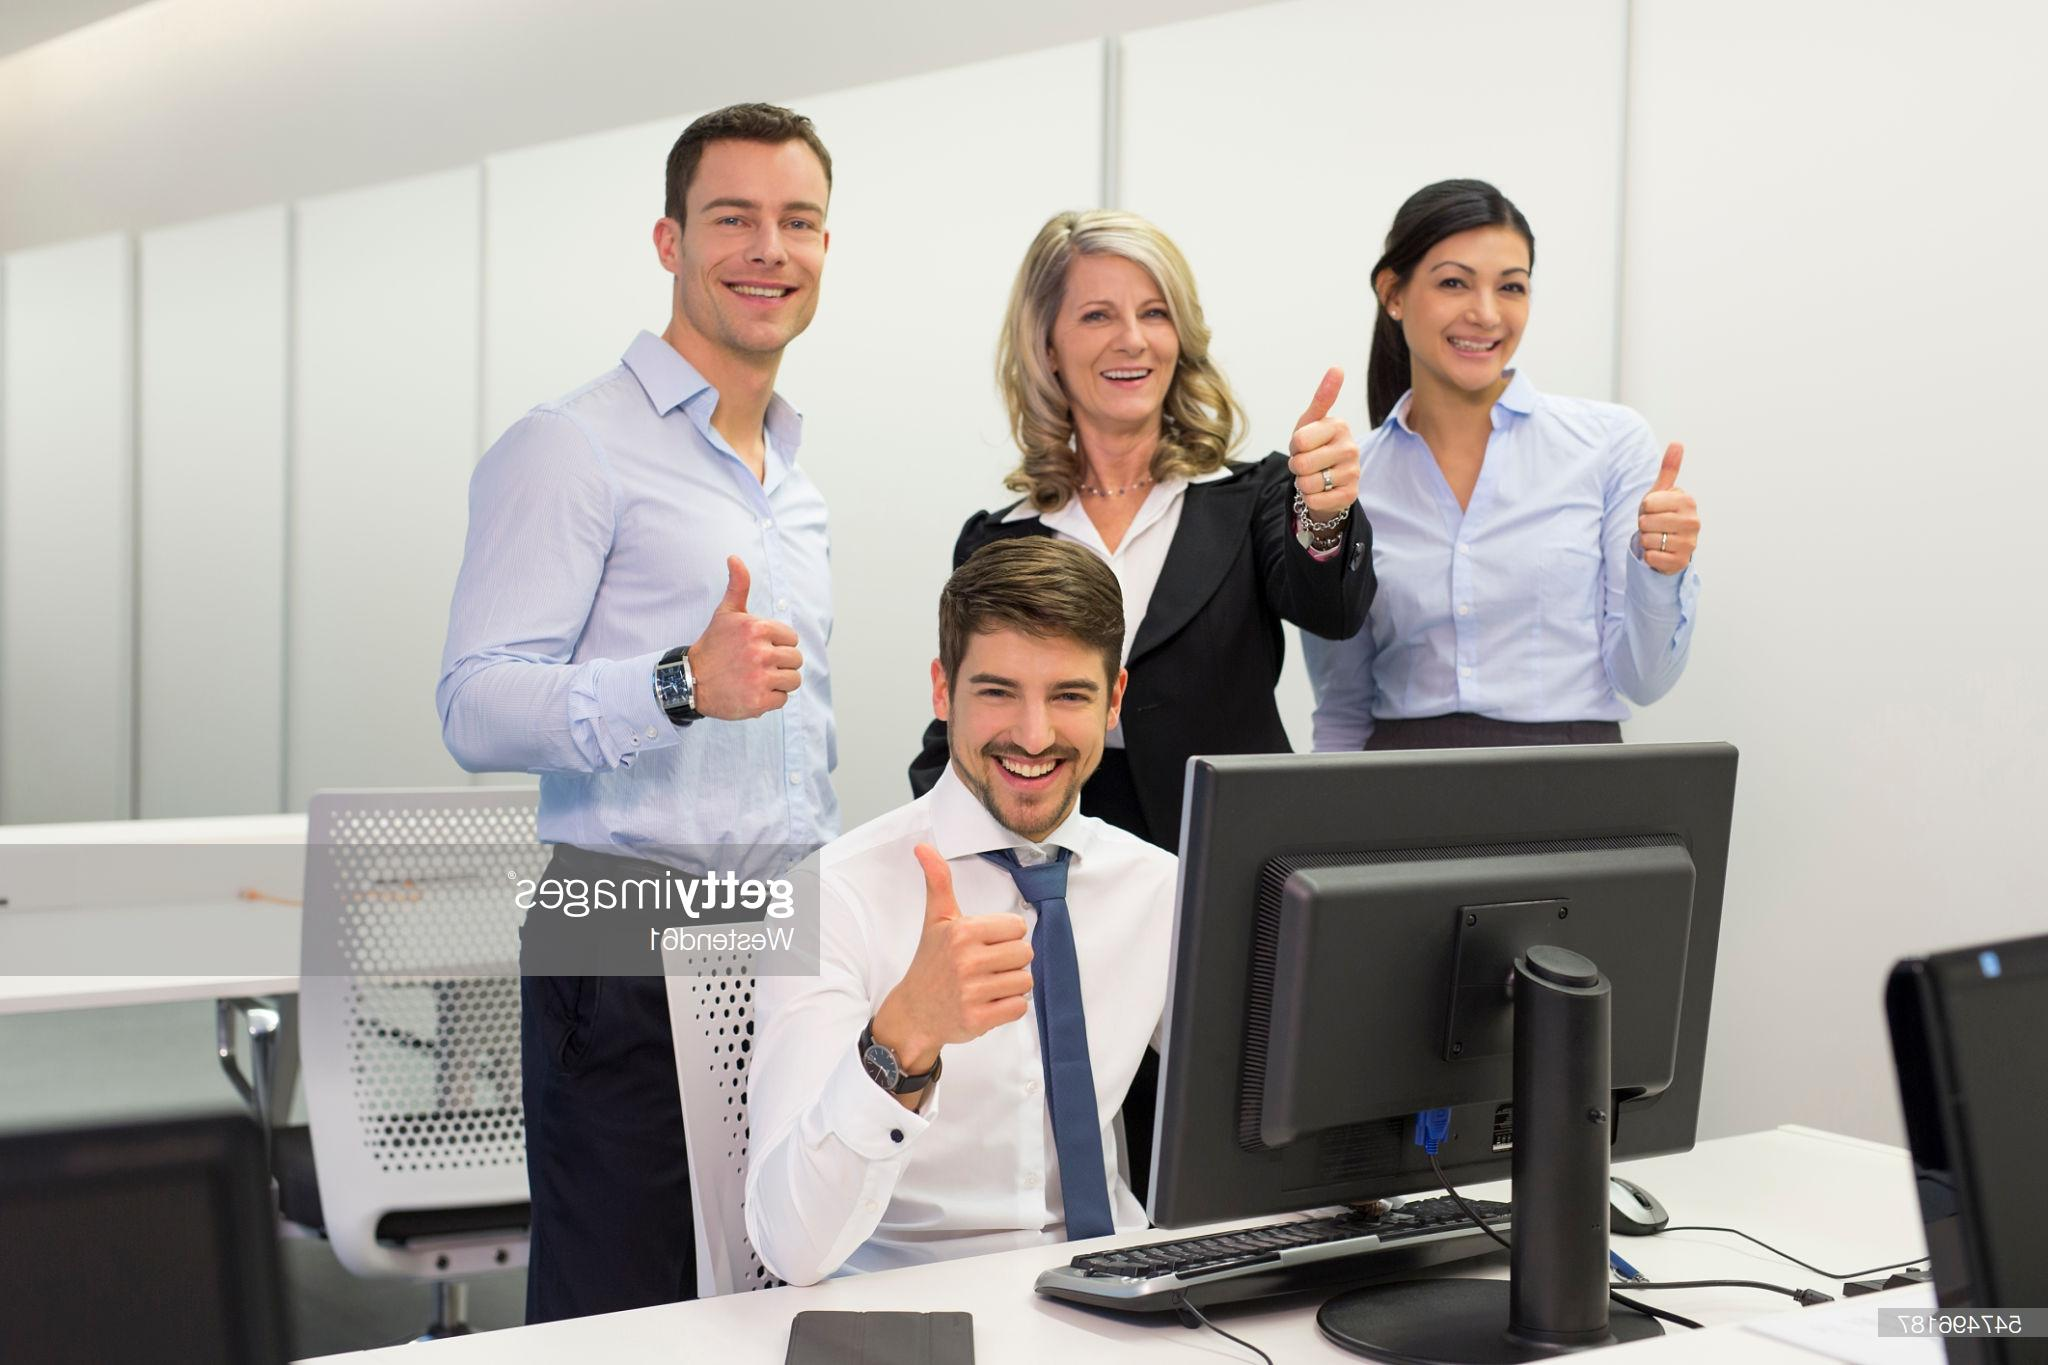thumbsup: (914, 842, 1035, 1034), (722, 555, 804, 719), (1288, 367, 1361, 510), (1638, 442, 1699, 570)
